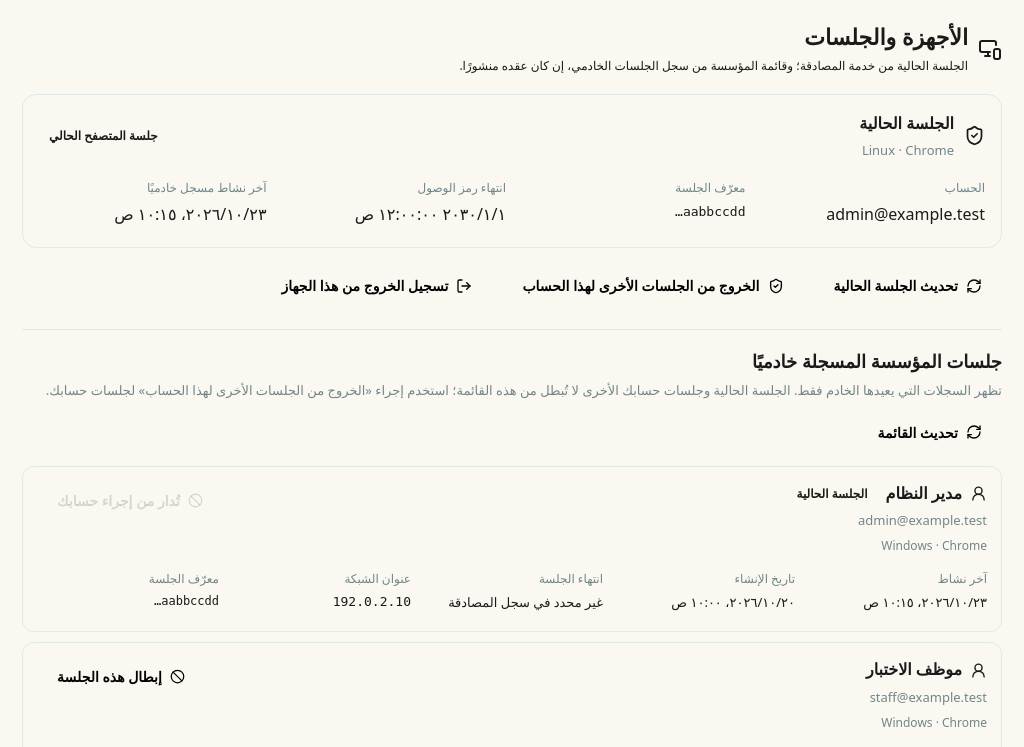
Scenario: central device and session management › retains the session after local sign-out failure and permits a retry
This screenshot has width=1024, height=747.
Click the button with aria-label "تسجيل الخروج من هذا الجهاز" at (377, 286), box top-left (261, 266), bottom-right (492, 305)
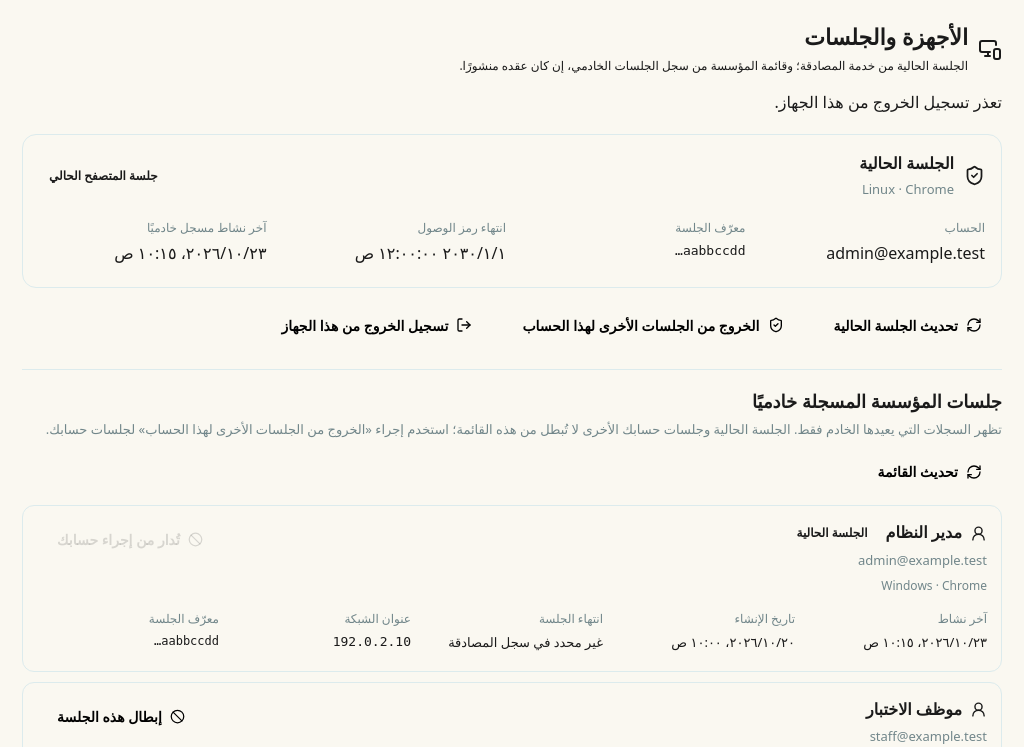
Expected: the text "admin@example.test" is shown, top-left (826, 242), bottom-right (985, 264)
Now the message "تعذر تسجيل الخروج من هذا الجهاز." is shown, box top-left (774, 91), bottom-right (1002, 113)
Click the button with aria-label "تسجيل الخروج من هذا الجهاز" at (377, 325), box top-left (261, 306), bottom-right (492, 345)
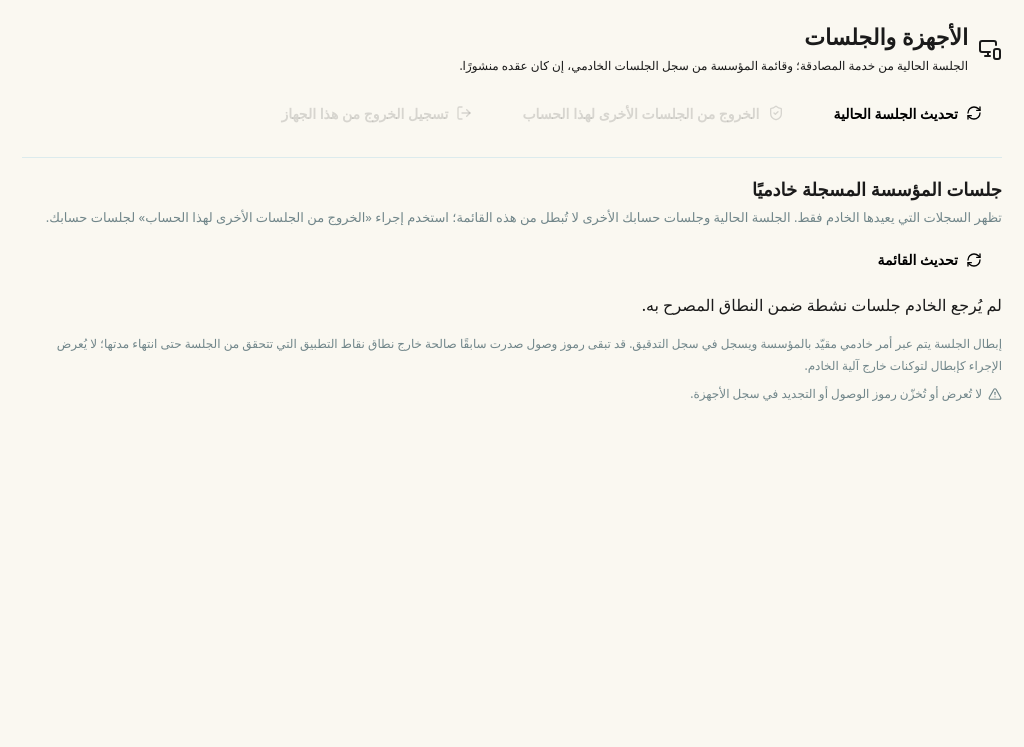
Now the text "admin@example.test" is gone
Now the button with aria-label "تسجيل الخروج من هذا الجهاز" is disabled, box top-left (261, 94), bottom-right (492, 133)
